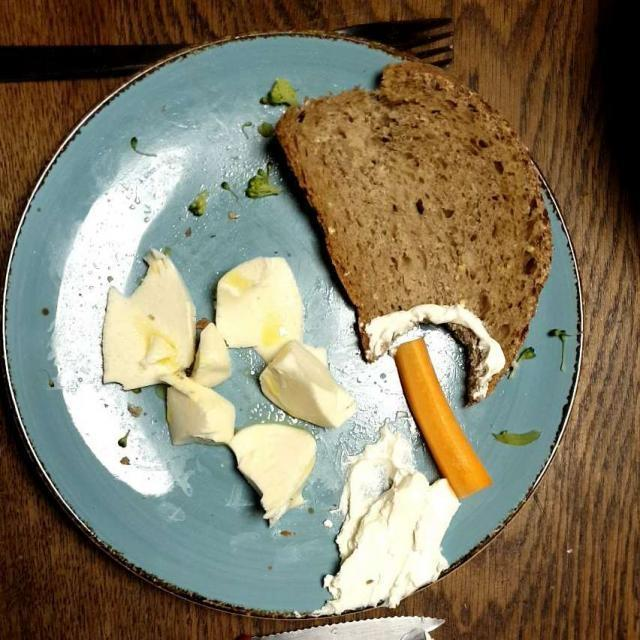bread: (283, 69, 541, 402)
carrot: (393, 338, 505, 502)
cheese: (111, 245, 346, 520)
cream-cheese: (329, 432, 450, 604)
